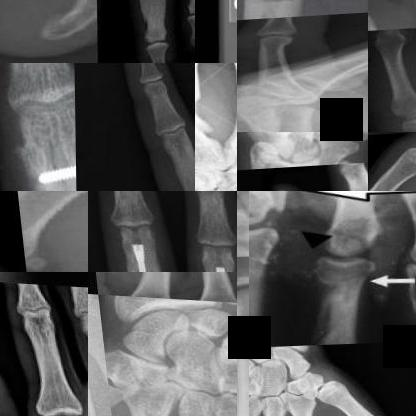fracture: (307, 257, 375, 302), (237, 86, 316, 119), (112, 233, 175, 271), (237, 0, 320, 25), (24, 153, 77, 190), (102, 376, 124, 415), (195, 85, 208, 126), (260, 399, 273, 415)
